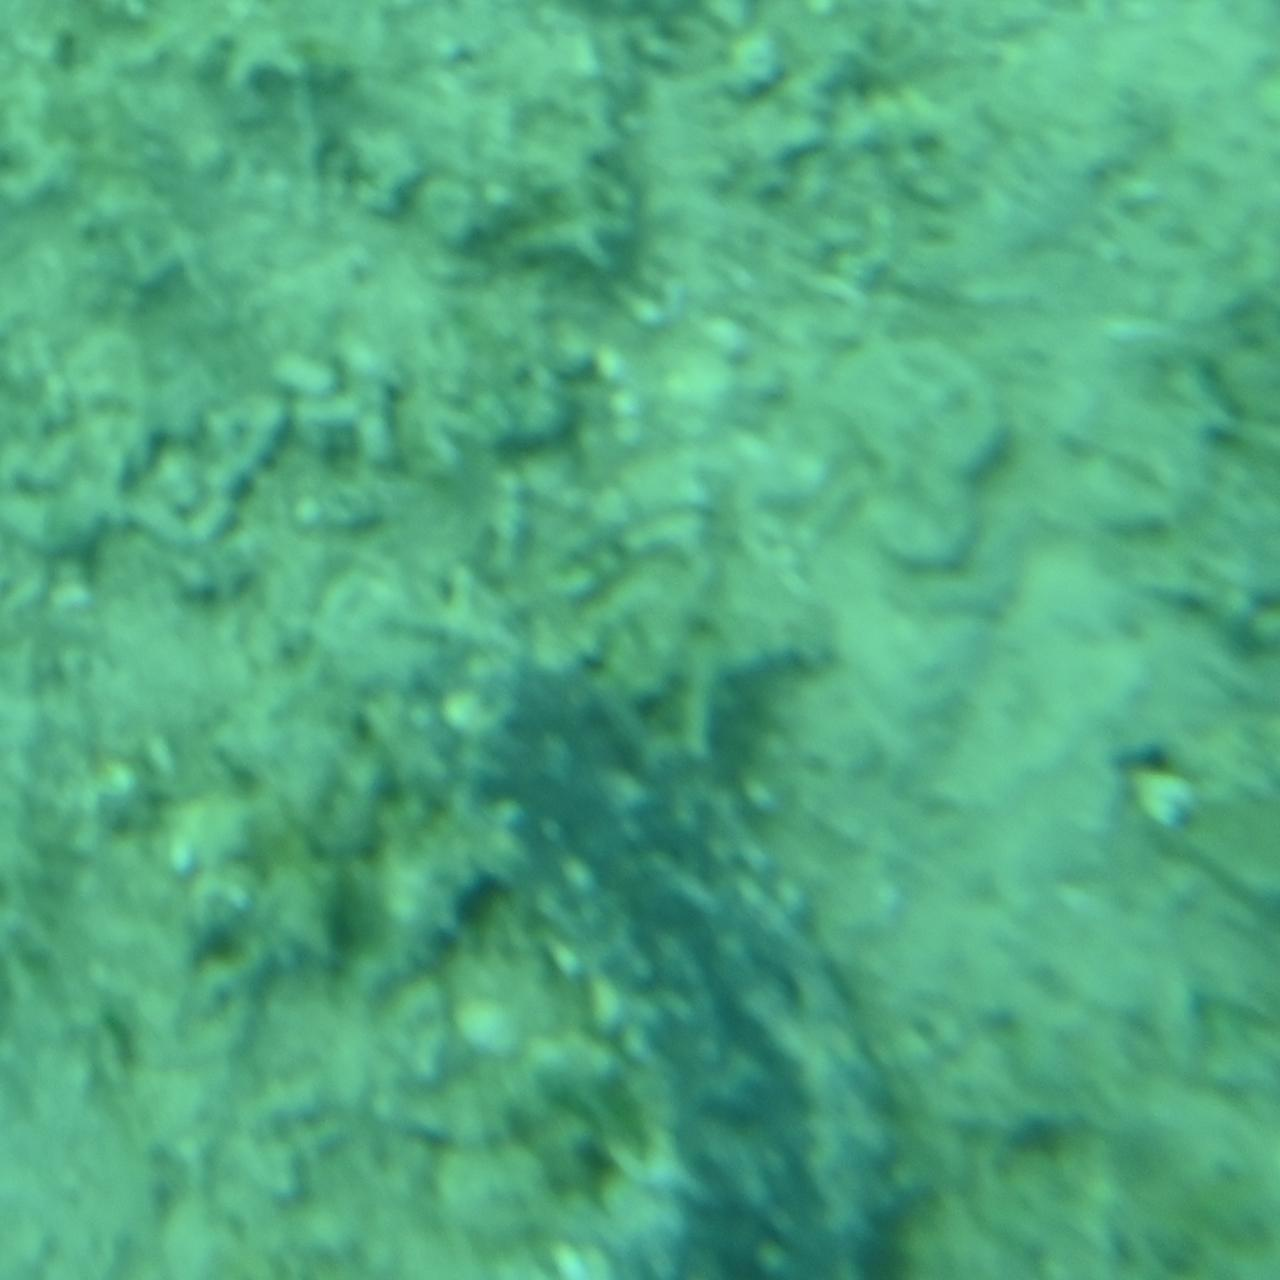Holothuria tubulosa: (366, 632, 914, 1280)
